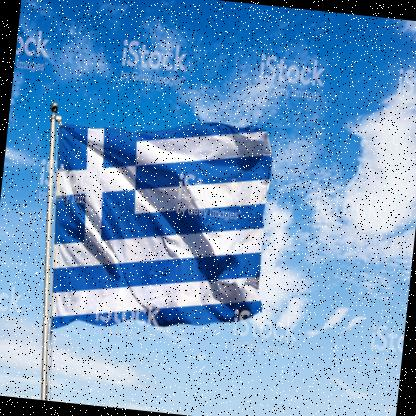gr: (35, 114, 281, 356)
